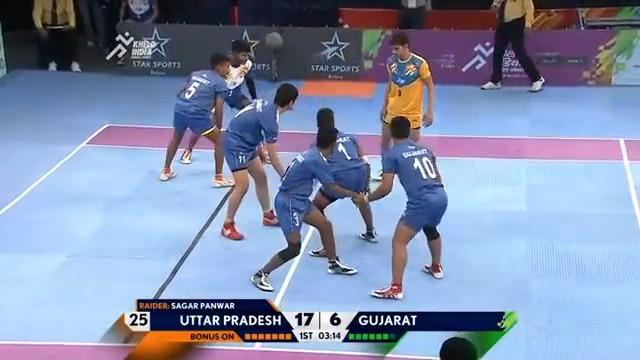Player: (250, 125, 365, 291), (357, 115, 448, 299), (219, 82, 299, 240), (307, 107, 378, 257), (158, 52, 236, 187), (221, 38, 269, 171)
Raider: (373, 31, 435, 180)
referee: (479, 0, 546, 92), (395, 0, 431, 29)
